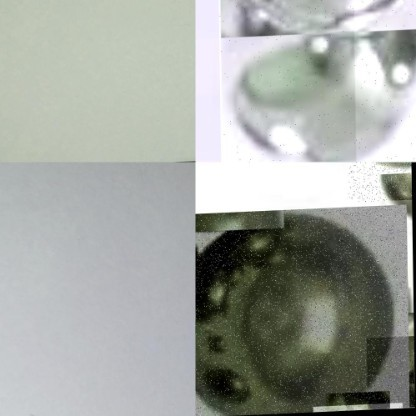ironball: (195, 207, 408, 415), (218, 0, 415, 162), (353, 0, 415, 162), (365, 338, 413, 411), (348, 162, 411, 204)
